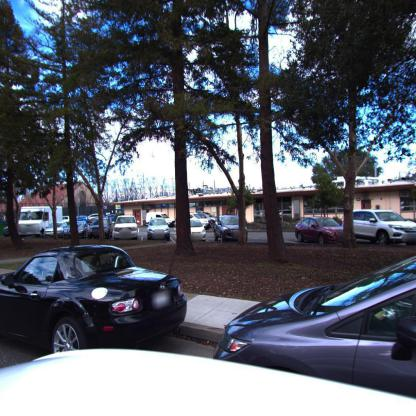car: (212, 244, 416, 416), (0, 245, 186, 356), (342, 208, 415, 247), (296, 218, 350, 245), (214, 216, 240, 243), (112, 215, 140, 239), (85, 216, 114, 239), (145, 218, 172, 240), (192, 213, 216, 229)
truck: (15, 206, 70, 238)
